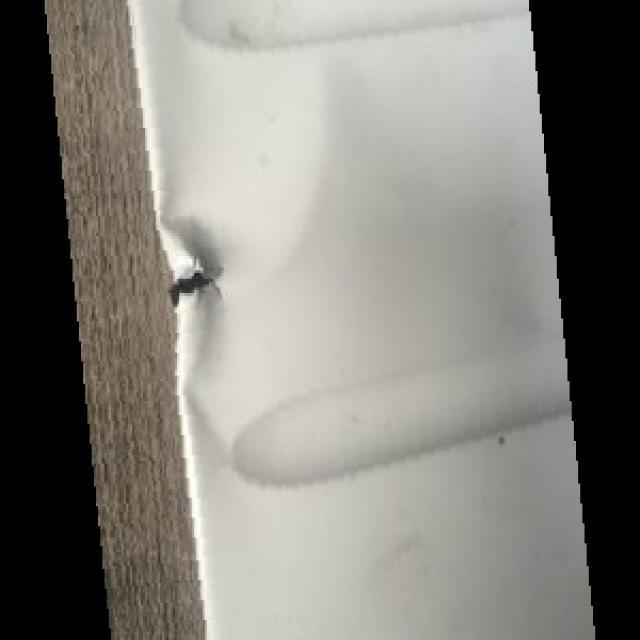crack: (164, 253, 228, 310)
